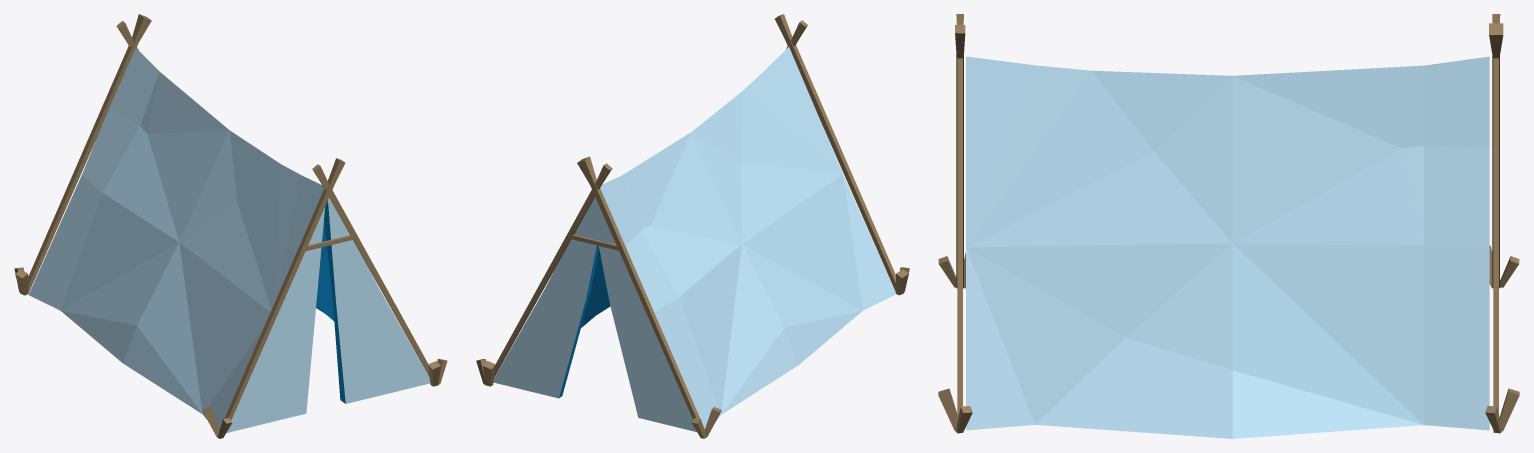
File: model_polytope_snow_tent05.fbx
3 views of the same model, side by side, from view 1: azimuth 30°, elevation 25°; view 2: azimuth 150°, elevation 25°; view 3: azimuth 270°, elevation 25° (orthographic). The views are drawn at different scales.
Parts seen in each view (by area): view 1: model_polytope_snow_tent05; view 2: model_polytope_snow_tent05; view 3: model_polytope_snow_tent05.
Part boxes in pixels (bbox=[...]): model_polytope_snow_tent05: bbox=[14, 14, 447, 438]; model_polytope_snow_tent05: bbox=[476, 14, 909, 438]; model_polytope_snow_tent05: bbox=[938, 14, 1519, 438].
Size of the model in its own units: 249 by 246 by 380.
1 material, 1 textured.
